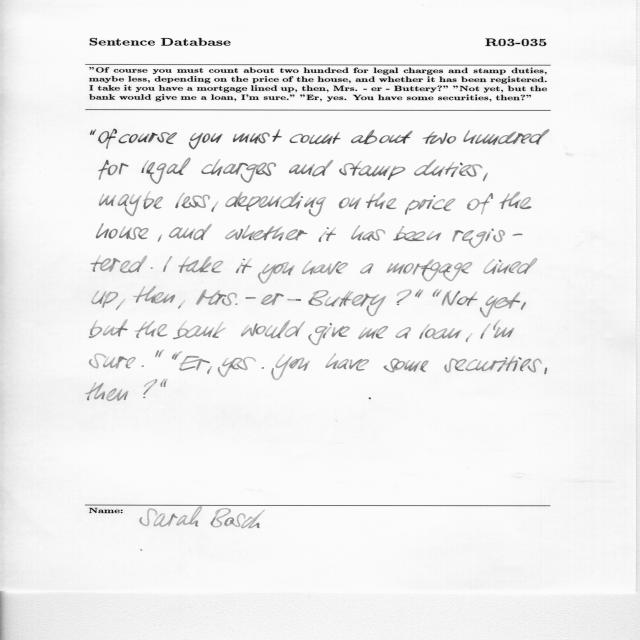word: (225, 192, 326, 217), (308, 290, 386, 316), (387, 259, 473, 282), (201, 159, 276, 183), (444, 356, 542, 373), (99, 192, 163, 216), (464, 129, 550, 145), (452, 229, 523, 248), (225, 225, 307, 241), (142, 158, 191, 184), (340, 161, 406, 180), (414, 159, 482, 177), (241, 321, 305, 339), (271, 354, 310, 380), (405, 195, 455, 215), (480, 292, 520, 317), (92, 256, 148, 273), (308, 323, 350, 345), (351, 130, 412, 145), (173, 323, 226, 340), (484, 258, 538, 274), (96, 224, 149, 240), (86, 382, 129, 401), (325, 353, 369, 371), (258, 262, 295, 283), (179, 256, 224, 273), (218, 357, 256, 377), (89, 353, 136, 369), (289, 160, 333, 177), (233, 129, 282, 144), (393, 226, 442, 241), (134, 287, 176, 304), (89, 320, 128, 338), (196, 289, 237, 306), (119, 132, 177, 144), (302, 260, 348, 275), (169, 224, 212, 240), (384, 358, 429, 373), (419, 324, 462, 339), (289, 132, 341, 144), (99, 160, 129, 180), (189, 133, 223, 150), (442, 290, 478, 306), (499, 192, 532, 209), (135, 321, 168, 338), (351, 225, 386, 241), (467, 193, 493, 214), (366, 192, 397, 209), (176, 193, 211, 208), (92, 290, 118, 308), (179, 356, 210, 371), (143, 380, 168, 398), (423, 132, 456, 144), (358, 326, 388, 339), (98, 129, 117, 149), (494, 320, 515, 338), (261, 293, 284, 305), (339, 198, 361, 210), (319, 227, 336, 242), (236, 259, 252, 274), (397, 290, 412, 306), (480, 323, 491, 339), (396, 327, 411, 338), (360, 263, 374, 274), (163, 256, 172, 272), (172, 351, 182, 360), (415, 289, 424, 298), (116, 301, 124, 310), (433, 289, 442, 297), (212, 202, 218, 212), (155, 351, 163, 358), (483, 173, 488, 181), (521, 302, 526, 310), (207, 366, 212, 374), (91, 129, 97, 135), (178, 302, 183, 309), (466, 335, 471, 342), (158, 235, 162, 242), (287, 299, 301, 301), (245, 297, 256, 299), (545, 368, 548, 375), (150, 267, 153, 269), (368, 397, 371, 399), (142, 365, 144, 367), (262, 367, 264, 369)
